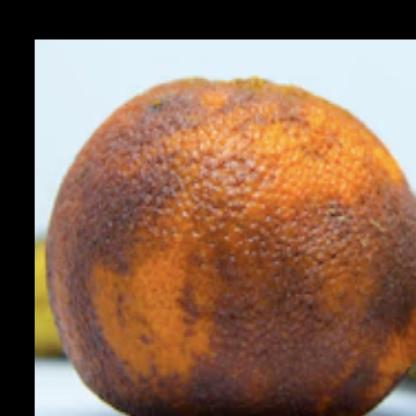rotten: (47, 77, 416, 416)
